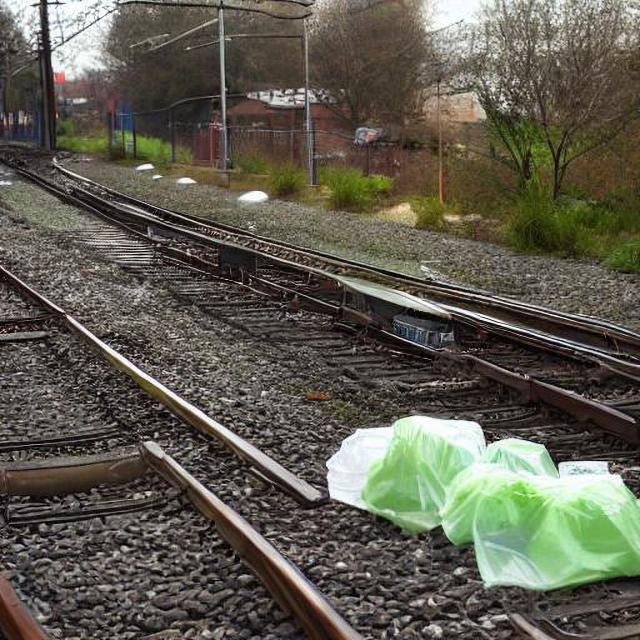plastic bag: (319, 416, 640, 588)
